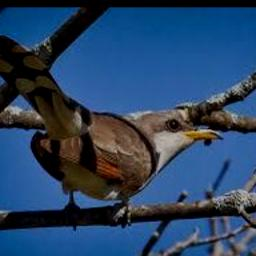Cuckoo: (0, 35, 224, 212)
